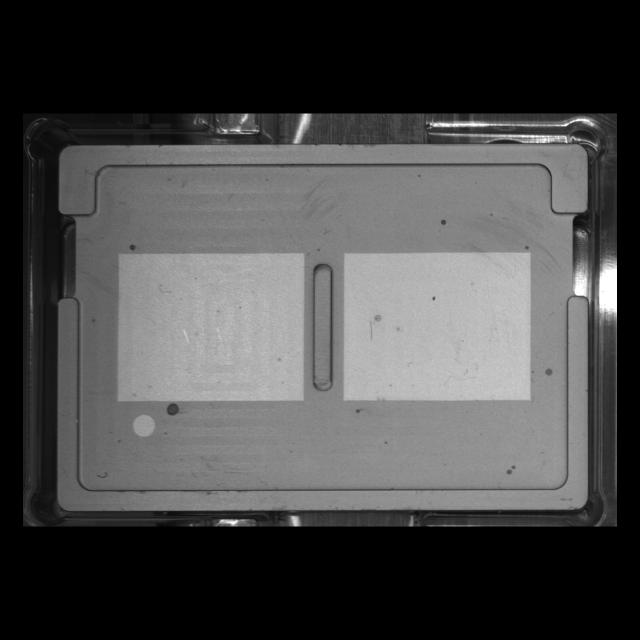door: (49, 134, 599, 222)
point: (128, 410, 160, 442)
